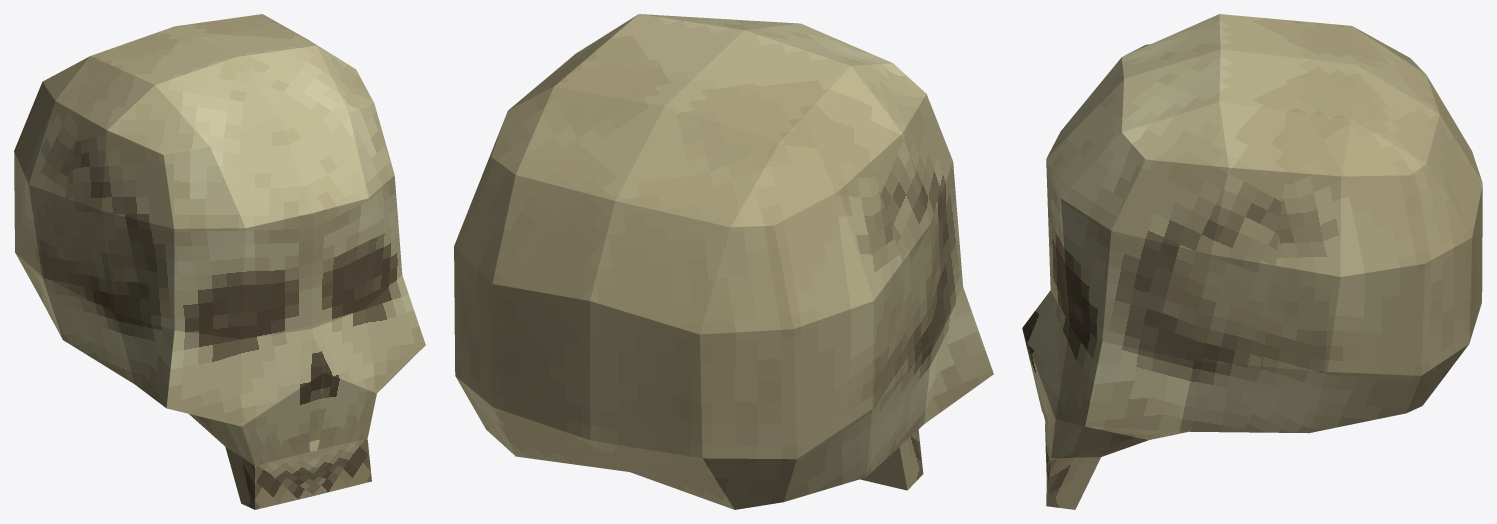
Rendered from skull.fbx.
3 views of the same model, side by side, from view 1: azimuth 30°, elevation 25°; view 2: azimuth 150°, elevation 25°; view 3: azimuth 270°, elevation 25° (orthographic). The views are drawn at different scales.
Parts seen in each view (by area): view 1: skull; view 2: skull; view 3: skull.
Part boxes in pixels (<box>): skull: <box>14,14,425,509</box>; skull: <box>454,14,993,509</box>; skull: <box>1022,14,1482,509</box>.
Bounding box in the file's own units: 92.17 × 111 × 108.
Materials: 1 (1 with a texture image).
